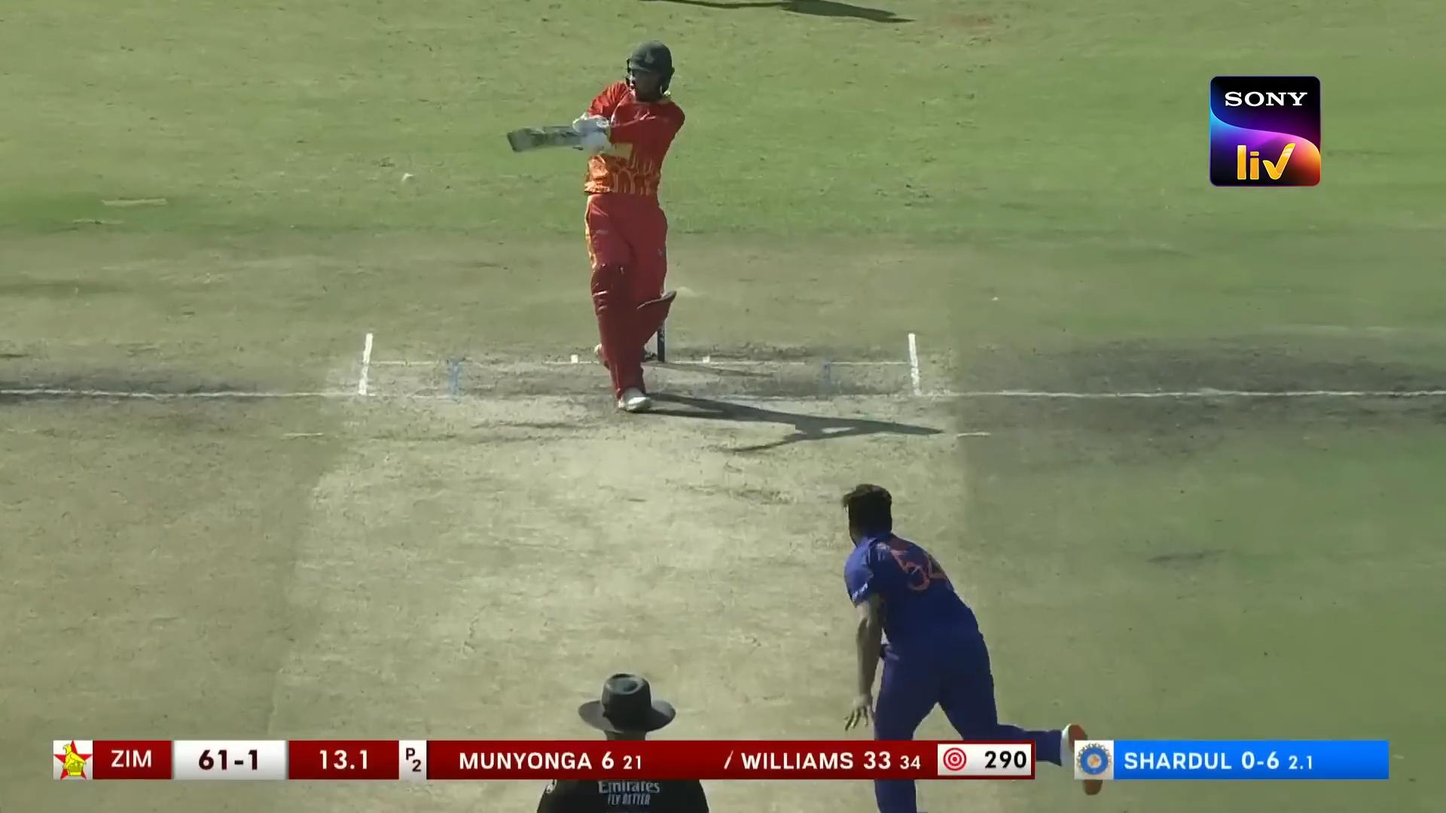batsman: (507, 38, 687, 411)
